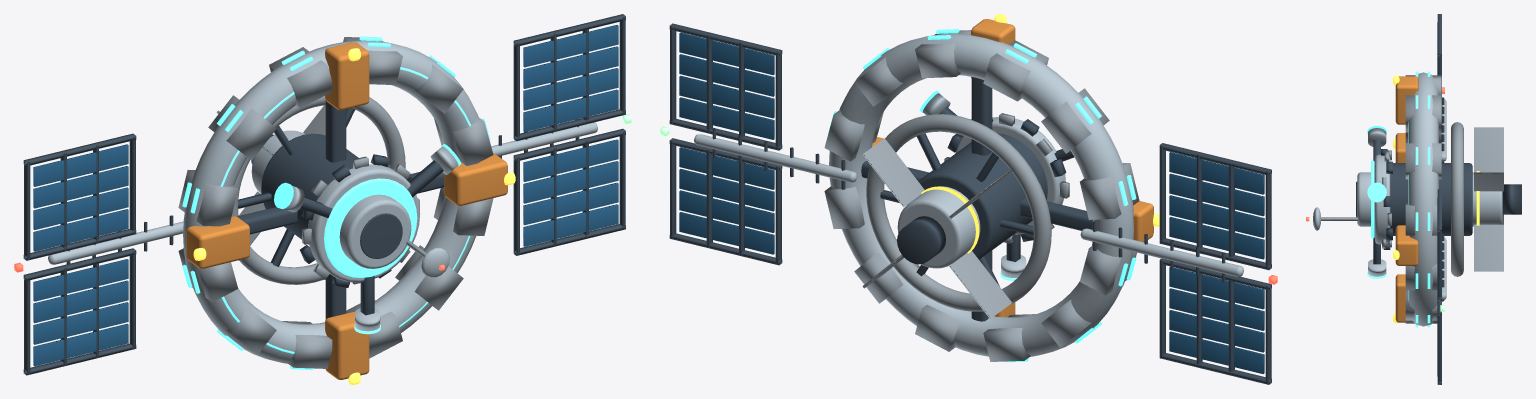
The model's file is station.glb.
The picture shows the model from 3 angles, left to right: view 1: azimuth 30°, elevation 25°; view 2: azimuth 150°, elevation 25°; view 3: azimuth 270°, elevation 25°; orthographic projection. The views are drawn at different scales.
Visible parts, largest first — view 1: Habitat torus, Docking spine, Counter ring, Guidance crown, Command deck, Upper dock, Freight bay 1, Freight bay 2, Freight bay 0, Freight bay 3, Habitat module 4, Habitat module 5 (+85 smaller); view 2: Habitat torus, Counter ring, Docking spine, Reactor housing, Solar boom 1, Solar boom -1, Radiator fin 2, Radiator fin 0, Reactor cone, Command deck, Habitat module 4, Habitat module 5 (+84 smaller); view 3: Habitat torus, Docking spine, Counter ring, Radiator fin 3, Radiator fin 1, Reactor housing, Command deck, Freight bay 0, Freight bay 1, Upper dock, Habitat module 1, Reactor cone (+17 smaller).
Boxes of the visible parts, bbox=[...] form: Habitat torus: bbox=[183, 40, 478, 363]; Docking spine: bbox=[261, 133, 358, 244]; Counter ring: bbox=[231, 96, 405, 284]; Guidance crown: bbox=[324, 178, 417, 277]; Command deck: bbox=[308, 164, 419, 282]; Upper dock: bbox=[339, 194, 411, 268]; Freight bay 1: bbox=[325, 42, 369, 110]; Freight bay 2: bbox=[186, 216, 249, 268]; Freight bay 0: bbox=[444, 153, 507, 205]; Freight bay 3: bbox=[325, 312, 369, 379]; Habitat module 4: bbox=[208, 95, 276, 160]; Habitat module 5: bbox=[178, 170, 237, 226]; Habitat torus: bbox=[829, 33, 1133, 356]; Counter ring: bbox=[866, 114, 1051, 311]; Docking spine: bbox=[918, 133, 1047, 259]; Reactor housing: bbox=[897, 186, 980, 268]; Solar boom 1: bbox=[694, 134, 857, 182]; Solar boom -1: bbox=[1080, 228, 1243, 276]; Radiator fin 2: bbox=[949, 251, 1011, 318]; Radiator fin 0: bbox=[862, 138, 924, 207]; Reactor cone: bbox=[897, 216, 945, 264]; Command deck: bbox=[955, 117, 1065, 234]; Habitat module 4: bbox=[1041, 88, 1109, 153]; Habitat module 5: bbox=[1080, 163, 1139, 219]; Habitat torus: bbox=[1408, 72, 1438, 326]; Docking spine: bbox=[1374, 163, 1472, 235]; Counter ring: bbox=[1451, 122, 1463, 276]; Radiator fin 3: bbox=[1474, 224, 1503, 271]; Radiator fin 1: bbox=[1474, 127, 1503, 172]; Reactor housing: bbox=[1472, 172, 1502, 226]; Command deck: bbox=[1375, 154, 1390, 244]; Freight bay 0: bbox=[1395, 225, 1418, 265]; Freight bay 1: bbox=[1395, 76, 1418, 124]; Upper dock: bbox=[1357, 172, 1370, 226]; Habitat module 1: bbox=[1405, 143, 1441, 179]; Reactor cone: bbox=[1502, 184, 1521, 214].
Size of the model in its own units: 9.53 by 4.98 by 3.95.
